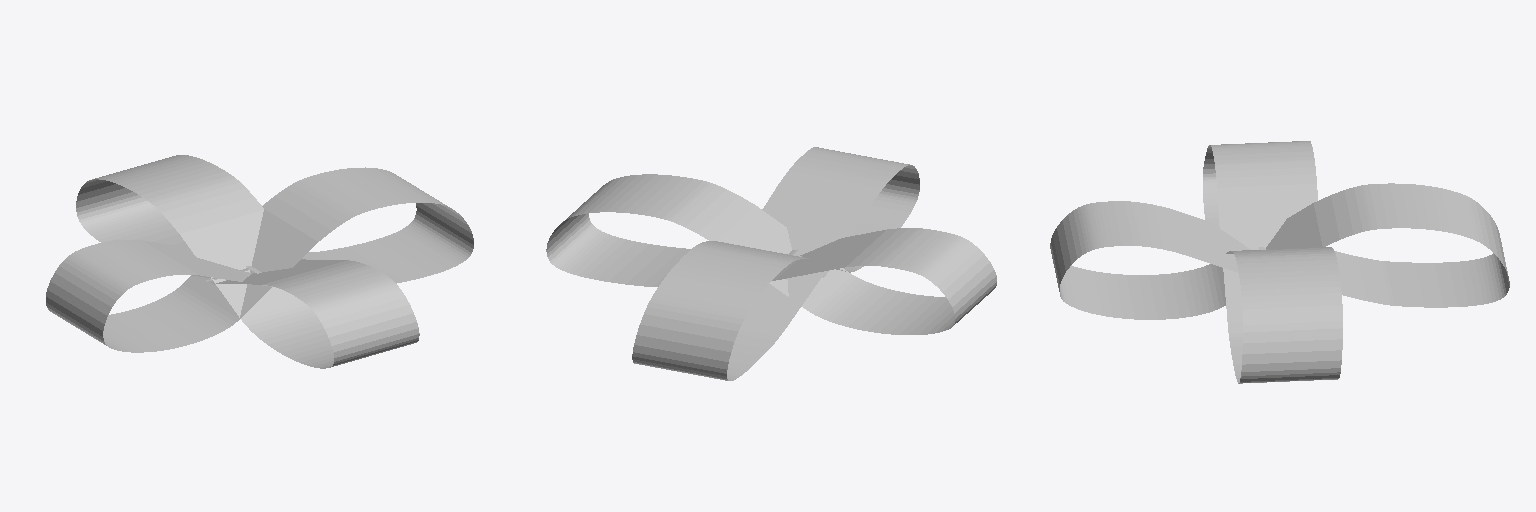
The model's file is ribbon2.obj.
3 renders of one model, left to right at view 1: azimuth 30°, elevation 25°; view 2: azimuth 150°, elevation 25°; view 3: azimuth 270°, elevation 25°, orthographic.
Visible parts, largest first — view 1: Laço_2.003_Cube_1_Extrude_NURBS.005, Laço_1.003_Cube_1_Extrude_NURBS_1.005; view 2: Laço_2.003_Cube_1_Extrude_NURBS.005, Laço_1.003_Cube_1_Extrude_NURBS_1.005; view 3: Laço_1.003_Cube_1_Extrude_NURBS_1.005, Laço_2.003_Cube_1_Extrude_NURBS.005.
Part boxes in pixels (x1,y1,x2,y2): Laço_2.003_Cube_1_Extrude_NURBS.005: (46, 167, 473, 352); Laço_1.003_Cube_1_Extrude_NURBS_1.005: (76, 155, 419, 368); Laço_2.003_Cube_1_Extrude_NURBS.005: (546, 174, 996, 334); Laço_1.003_Cube_1_Extrude_NURBS_1.005: (632, 147, 919, 380); Laço_1.003_Cube_1_Extrude_NURBS_1.005: (1050, 183, 1509, 319); Laço_2.003_Cube_1_Extrude_NURBS.005: (1203, 141, 1342, 383).
Size of the model in its own units: 0.466 by 0.0897 by 0.4665.